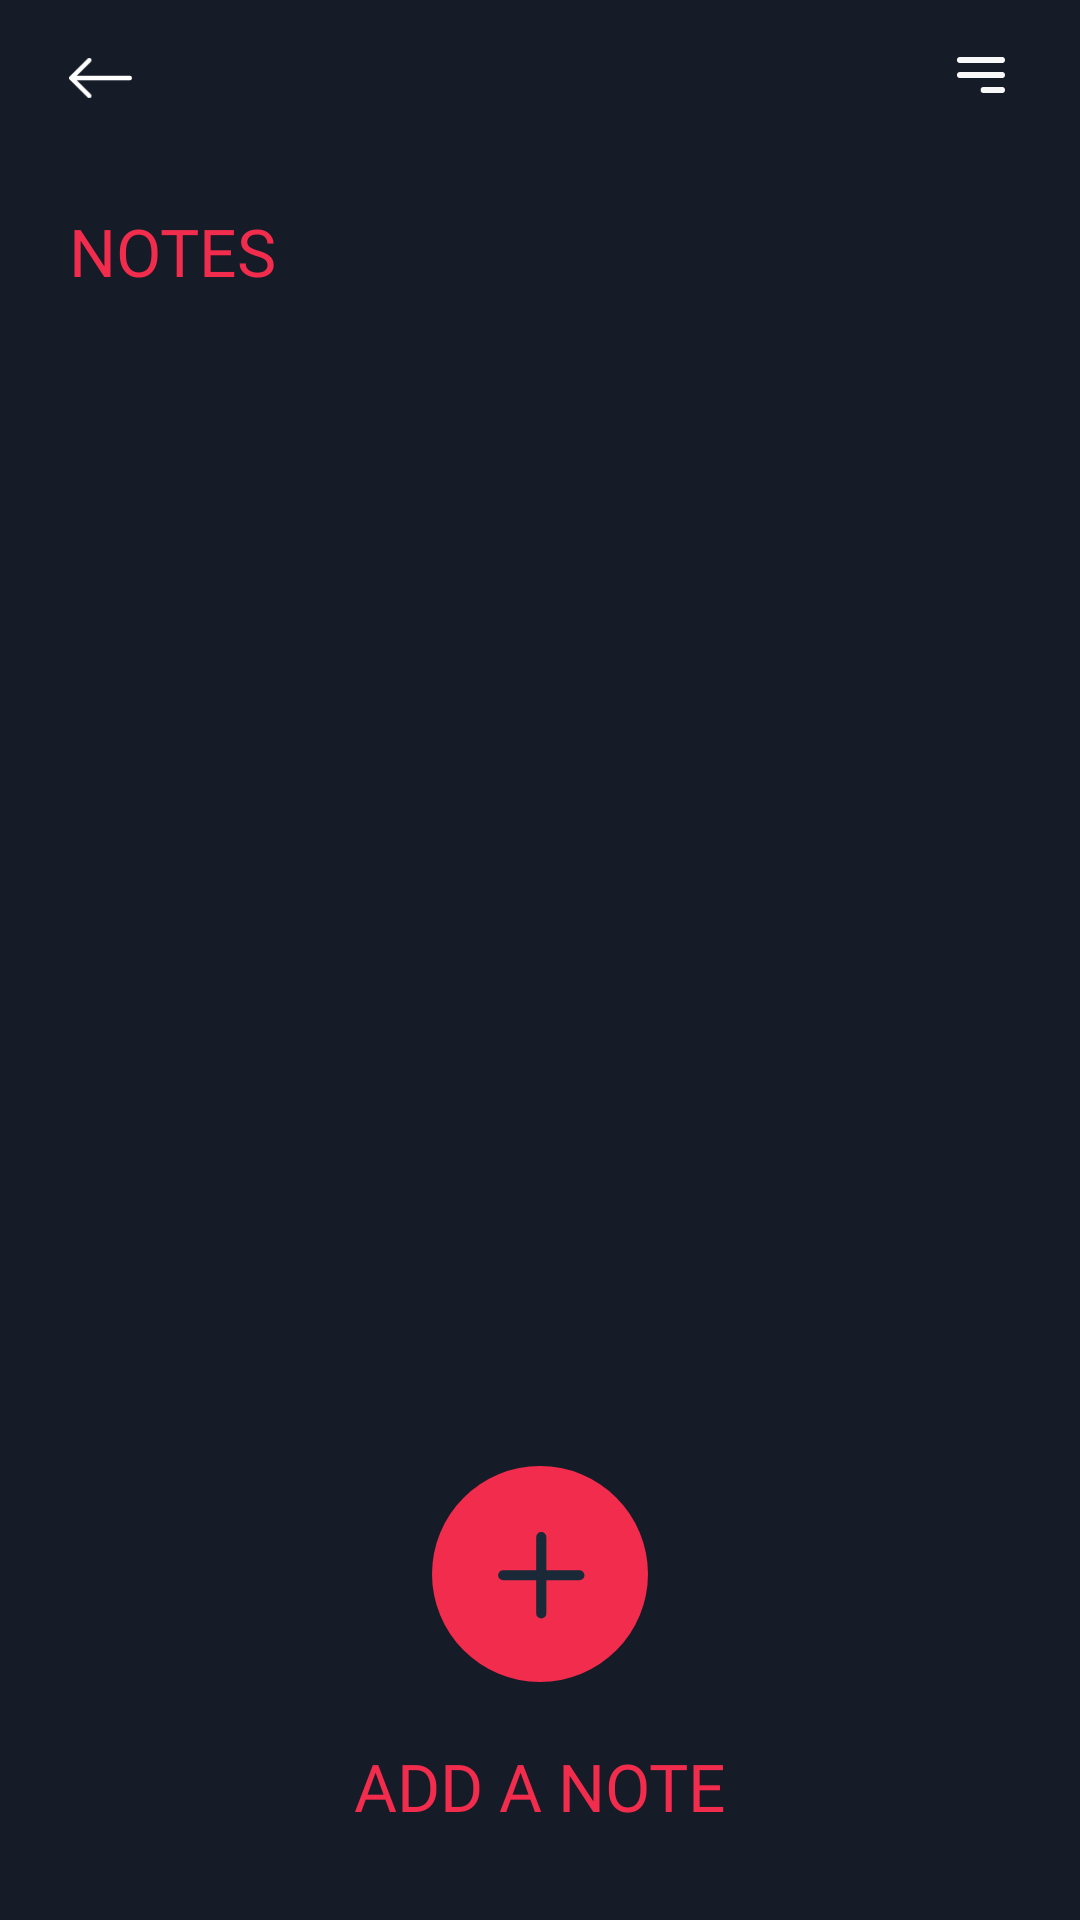

Where icons sit on this 1080*1920 app screen, as (x1=x1, y1=y1, x2=x2, y2=y2):
back: (x1=69, y1=58, x2=132, y2=98)
